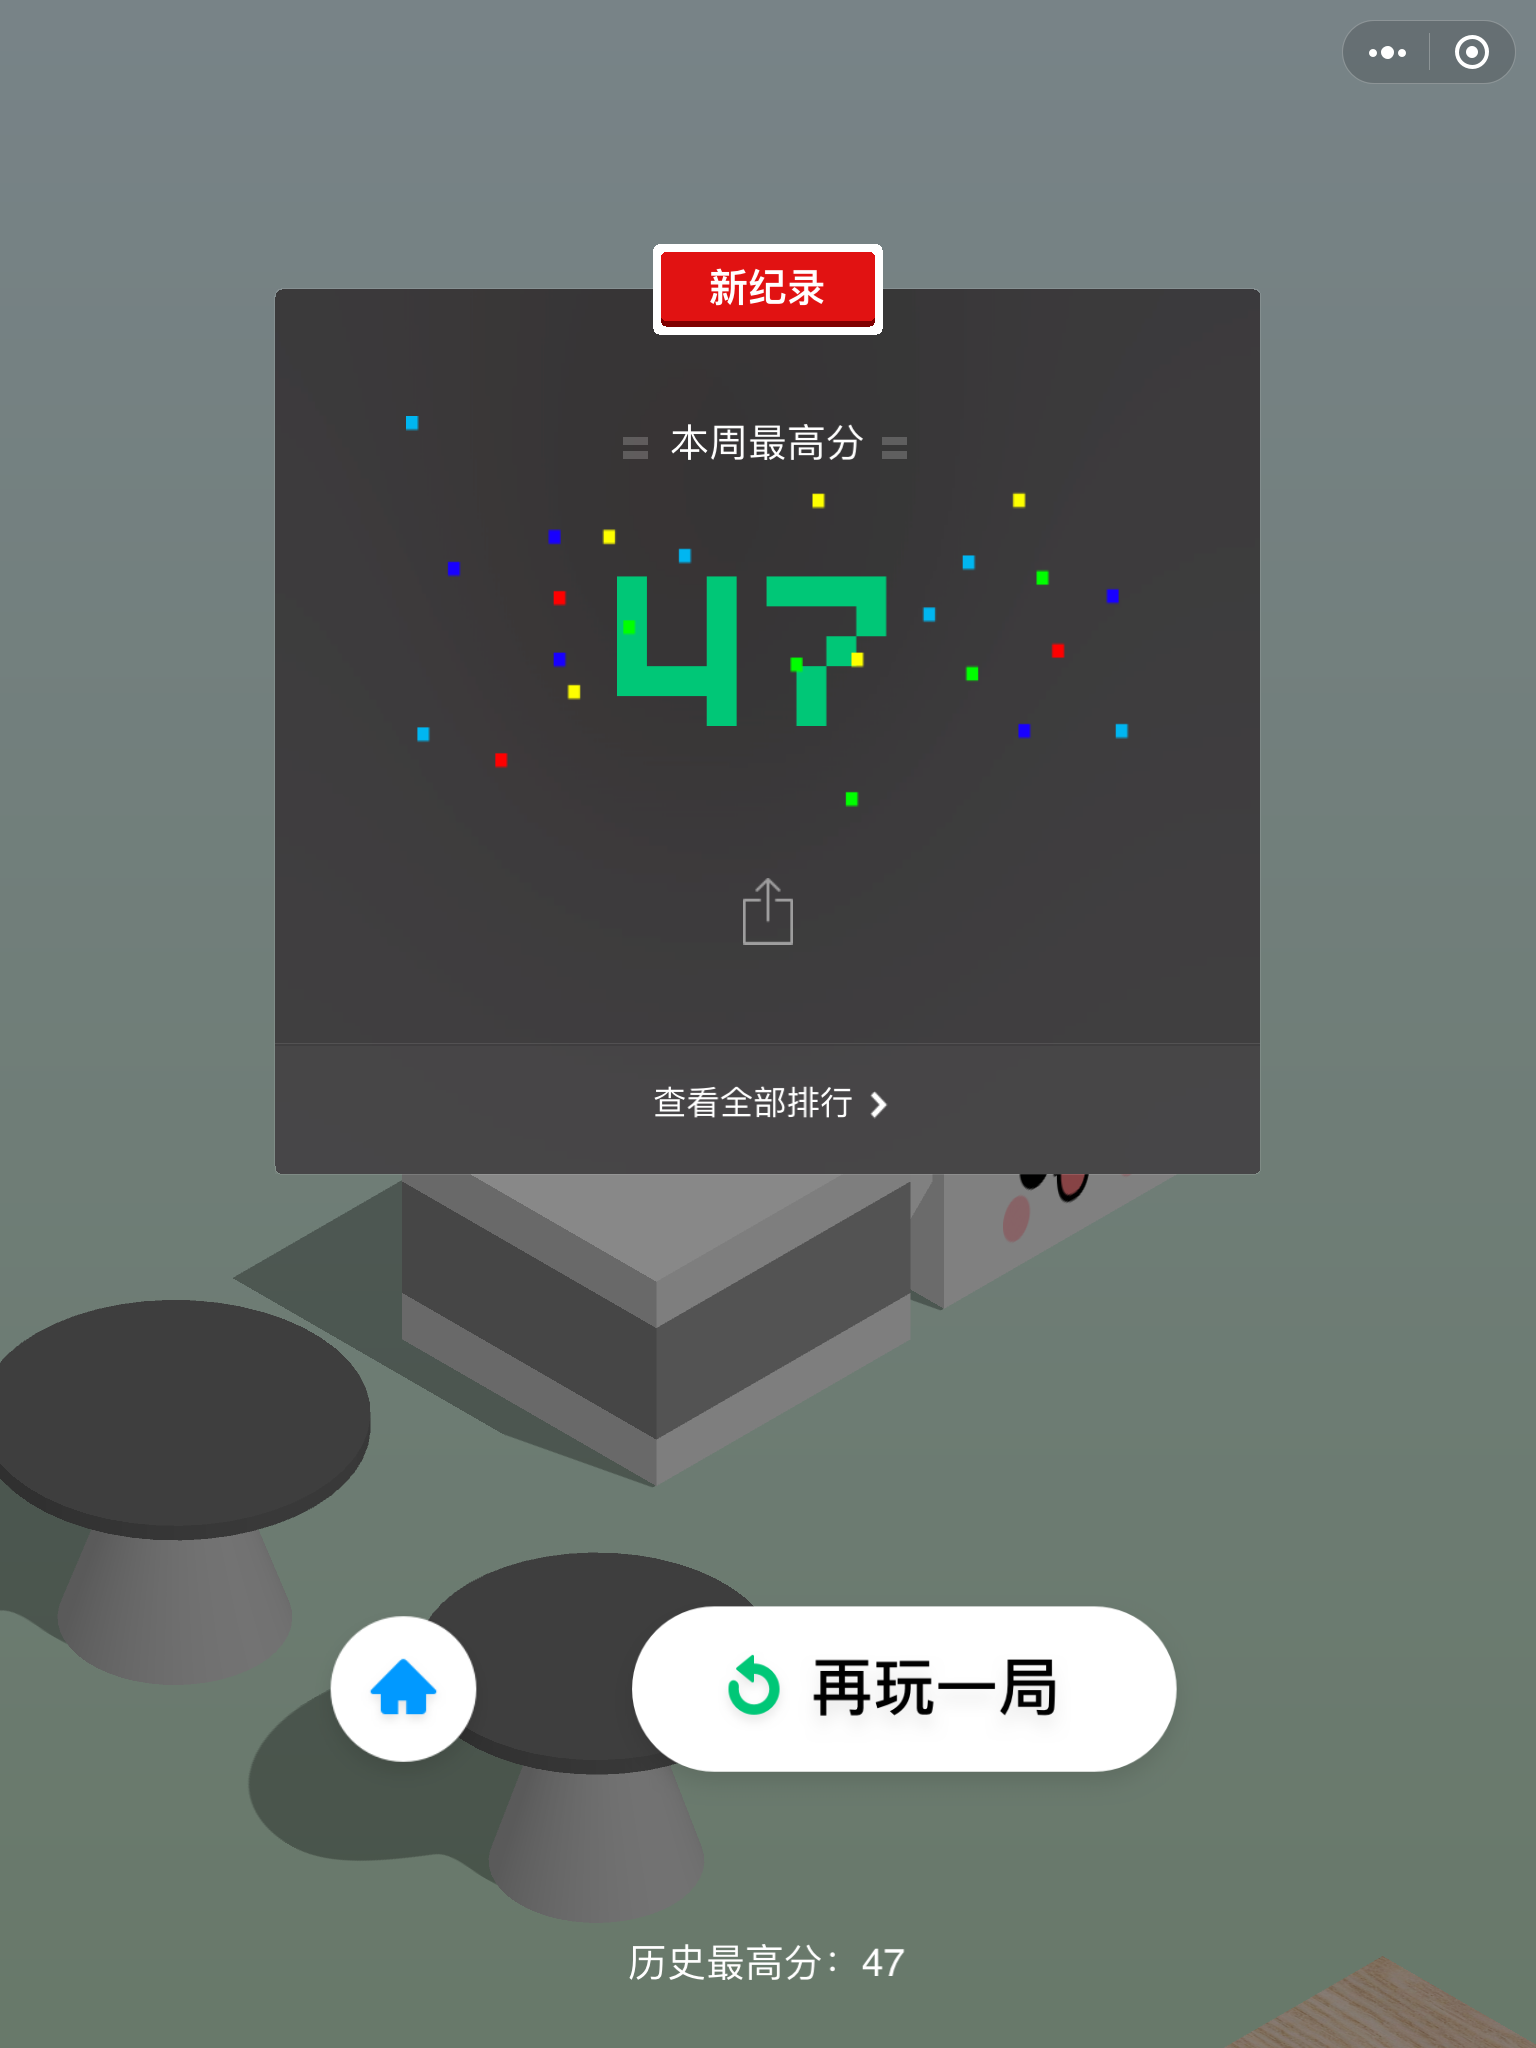c: (2, 1297, 373, 1693), (415, 1550, 763, 1934)
f: (395, 1042, 918, 1493)
s: (632, 1600, 1183, 1775)
